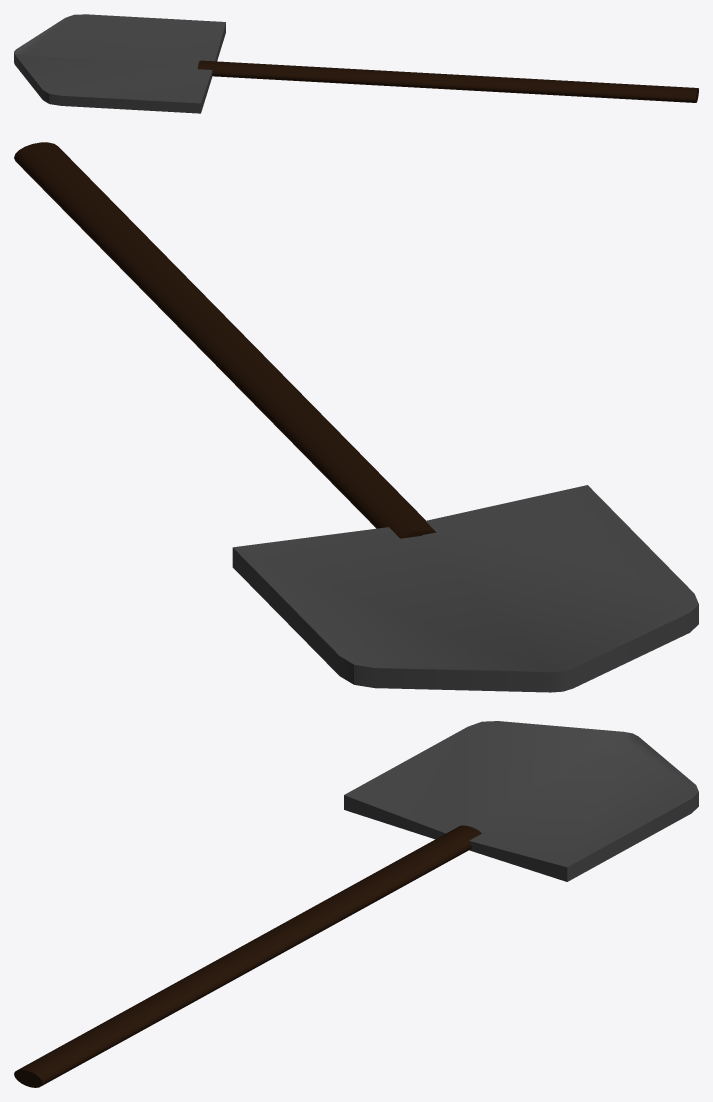
File: lopata.fbx
The picture shows the model from 3 angles, top to bottom: view 1: azimuth 30°, elevation 25°; view 2: azimuth 150°, elevation 25°; view 3: azimuth 270°, elevation 25°; orthographic projection. The views are drawn at different scales.
Visible parts, largest first — view 1: lopata3 (×2); view 2: lopata3 (×2); view 3: lopata3 (×2).
Boxes of the visible parts, x1,y1,x2,y2 form: lopata3 (×2): (14,14,698,113); lopata3 (×2): (14,142,698,692); lopata3 (×2): (14,721,698,1087).
Size of the model in its own units: 39.32 by 0.9217 by 32.29.
